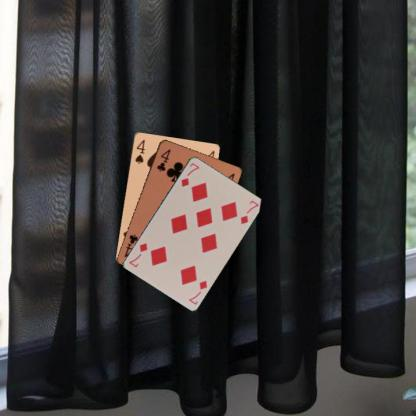4c: (154, 146, 172, 173)
4s: (132, 137, 146, 165)
7d: (186, 277, 209, 306), (178, 160, 200, 188)
